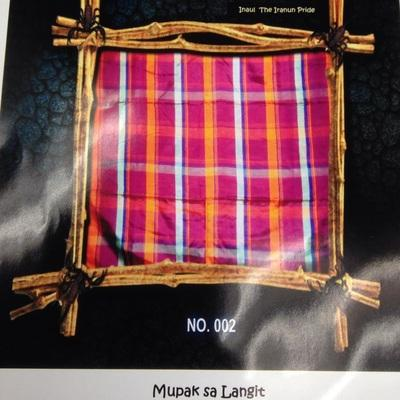malong: (77, 39, 348, 282)
